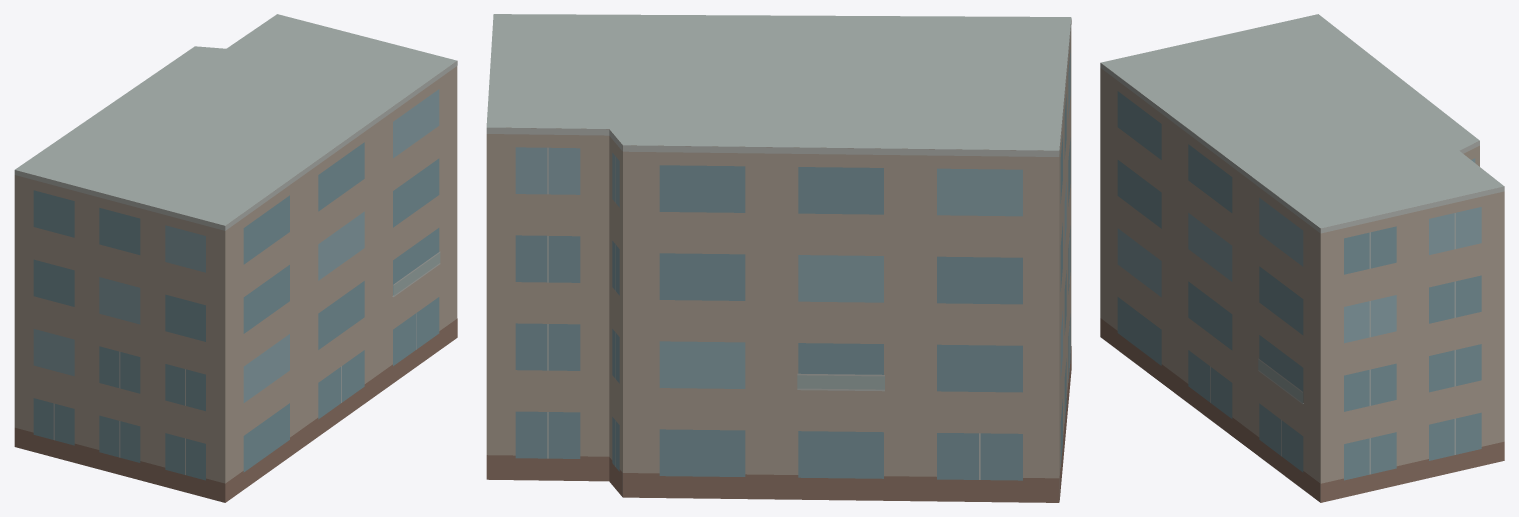
The model's file is survey-upis-32863824.glb.
3 renders of one model, left to right at view 1: azimuth 30°, elevation 25°; view 2: azimuth 150°, elevation 25°; view 3: azimuth 270°, elevation 25°, orthographic. The views are drawn at different scales.
Visible parts, largest first — view 1: survey-upis-32863824.tmp; view 2: survey-upis-32863824.tmp; view 3: survey-upis-32863824.tmp.
Boxes of the visible parts, <box> form: survey-upis-32863824.tmp: <box>14,14,457,502</box>; survey-upis-32863824.tmp: <box>486,14,1071,502</box>; survey-upis-32863824.tmp: <box>1100,14,1504,502</box>.
Size of the model in its own units: 22.31 by 13.3 by 17.76.
